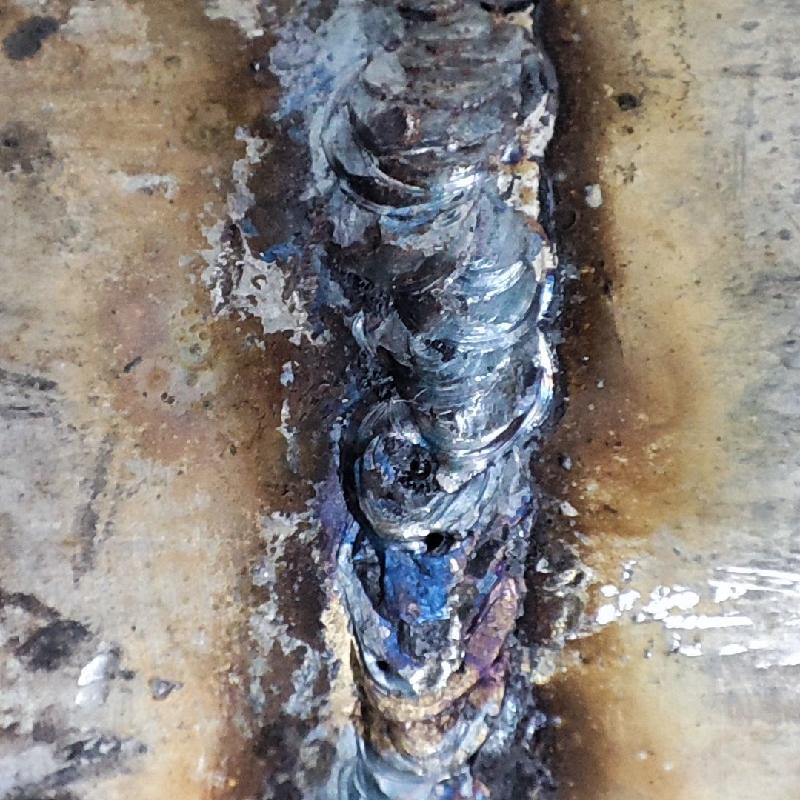Surface_pores: (413, 517, 458, 566), (366, 651, 402, 684)
